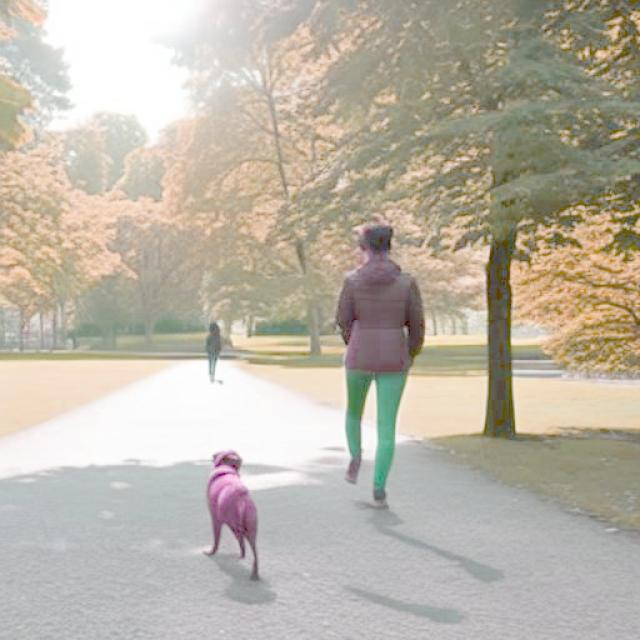Unleashed_Dog: (202, 342, 407, 582)
